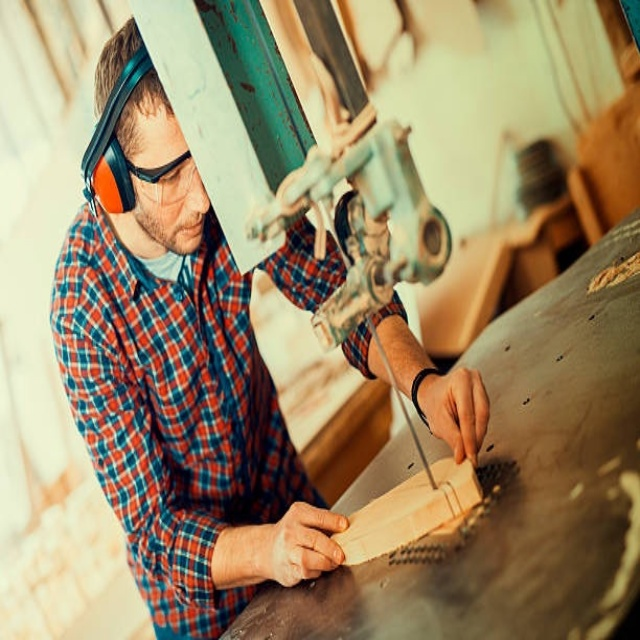Gafas: (124, 145, 194, 186), (91, 151, 128, 215)
Sin_guantes: (414, 358, 493, 466), (271, 493, 352, 590)
Sin_mascara: (166, 209, 207, 253)
